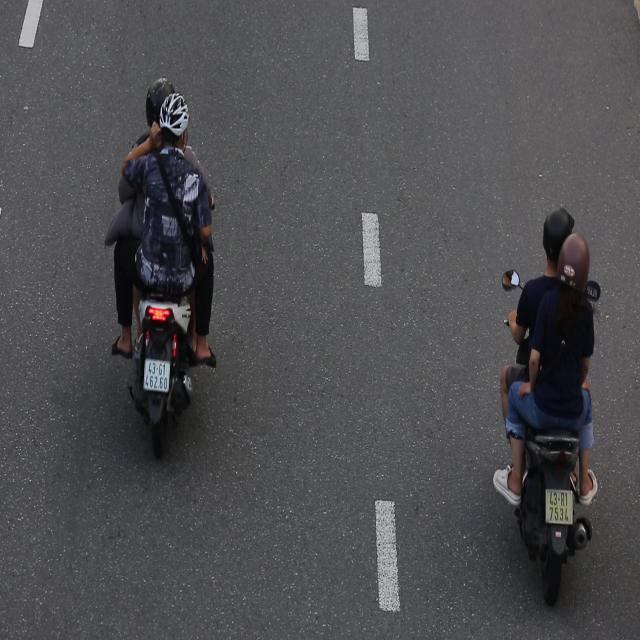motorbike: (476, 162, 623, 623), (100, 60, 224, 478)
